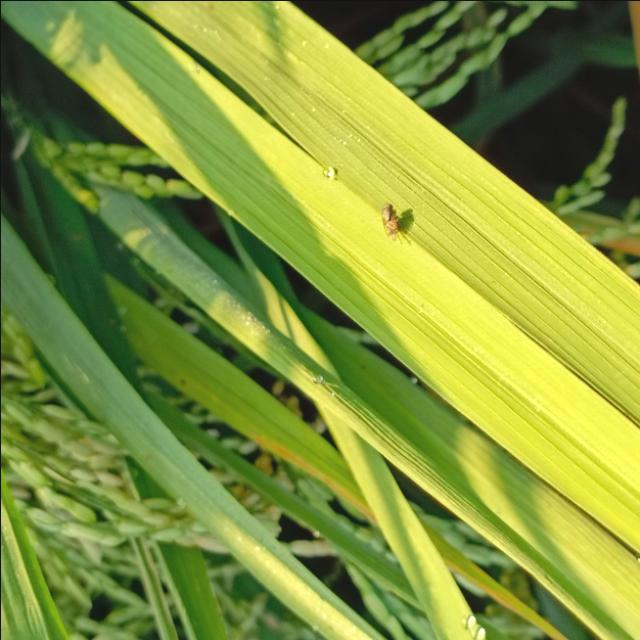Lalat: (378, 201, 412, 250)
